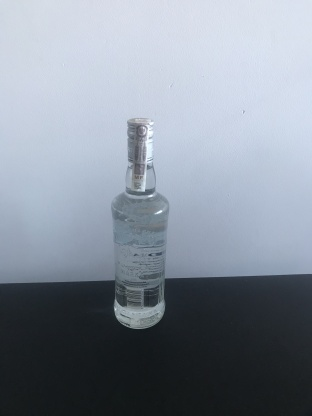nakretka: (124, 113, 156, 166)
